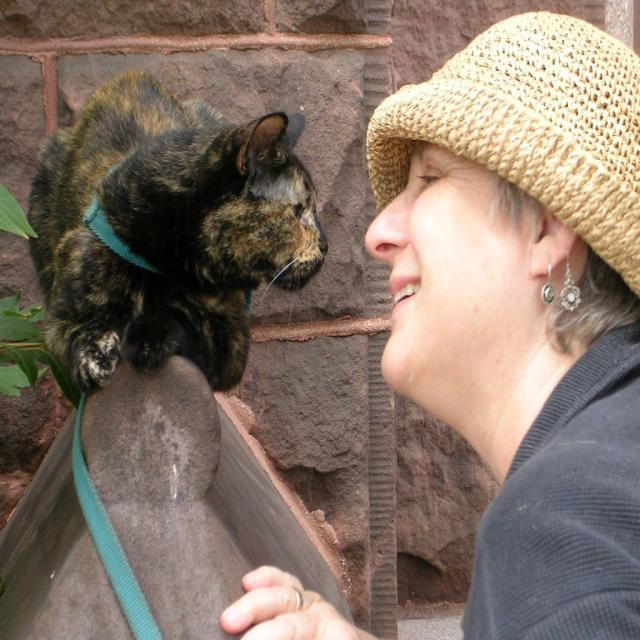Cat: (25, 68, 331, 398)
